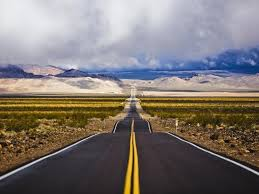strada: (3, 98, 259, 194)
